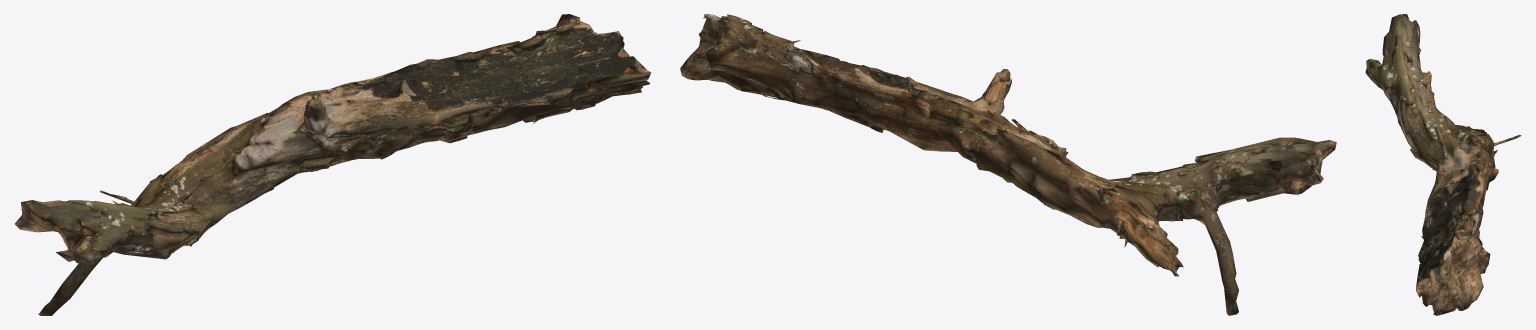
File: dead_tree_trunk_02.glb
3 views of the same model, side by side, from view 1: azimuth 30°, elevation 25°; view 2: azimuth 150°, elevation 25°; view 3: azimuth 270°, elevation 25° (orthographic). The views are drawn at different scales.
Parts seen in each view (by area): view 1: dead_tree_trunk_02; view 2: dead_tree_trunk_02; view 3: dead_tree_trunk_02.
Boxes of the visible parts, <box> form: dead_tree_trunk_02: <box>15,14,651,315</box>; dead_tree_trunk_02: <box>680,14,1336,315</box>; dead_tree_trunk_02: <box>1365,14,1521,315</box>.
Bounding box in the file's own units: 4.05 × 1.05 × 1.05.
Materials: 1 (1 with a texture image).
